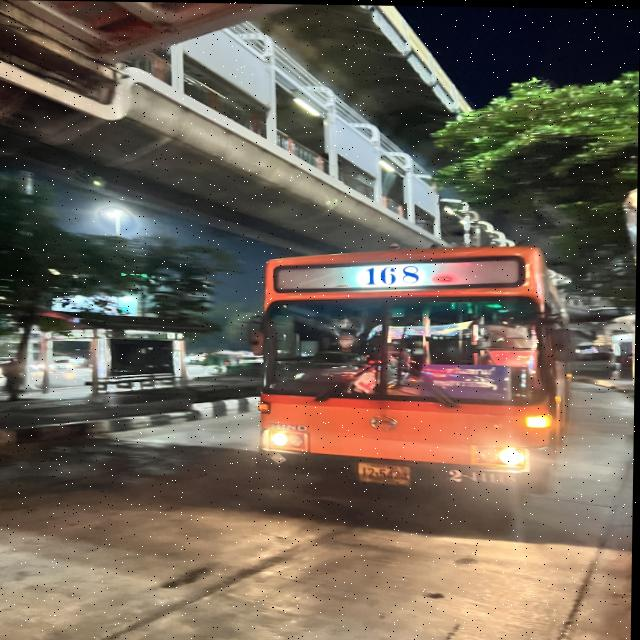BMTA-bus: (259, 246, 574, 492)
Bus Line Number: (356, 261, 427, 287)
Bus Side Number: (445, 466, 524, 485)
Destination Sign: (424, 361, 514, 399)
